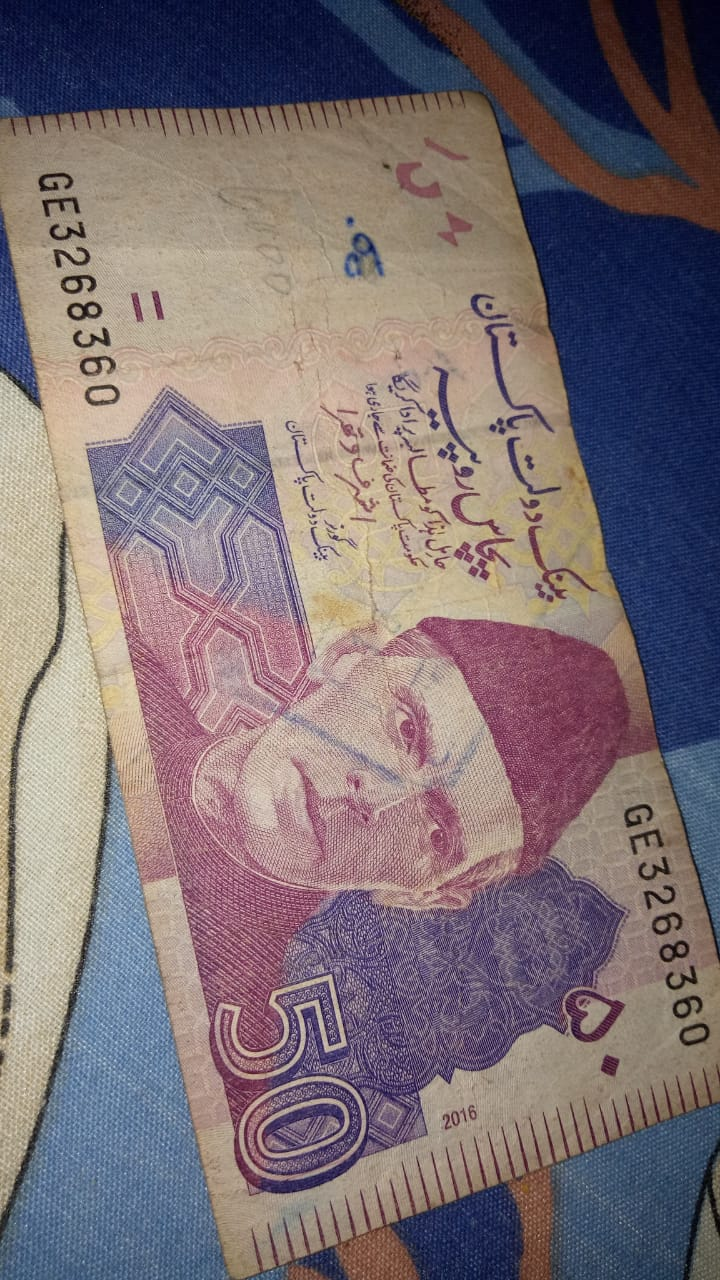50 rupee: (14, 76, 690, 1196)
